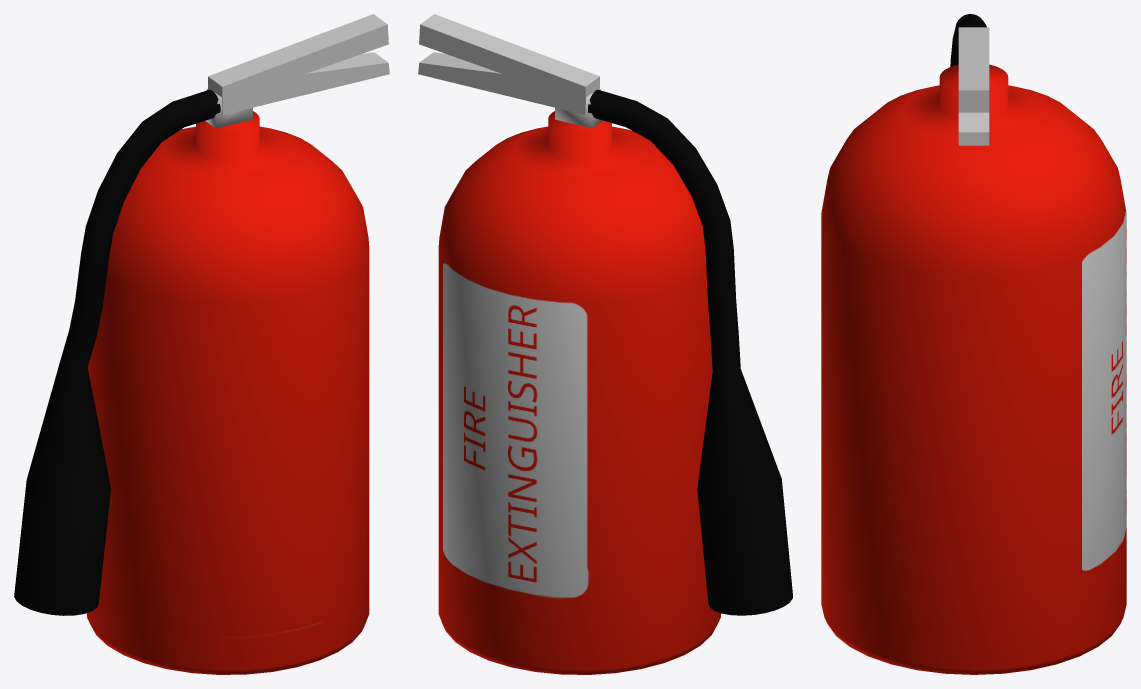
The model's file is sondurucu.glb.
3 views of the same model, side by side, from view 1: azimuth 30°, elevation 25°; view 2: azimuth 150°, elevation 25°; view 3: azimuth 270°, elevation 25° (orthographic). The views are drawn at different scales.
Visible parts, largest first — view 1: Cylinder, Circle; view 2: Cylinder, Circle; view 3: Cylinder, Circle.
Part boxes in pixels (x1,y1,x2,y2): Cylinder: [86, 14, 389, 674]; Circle: [14, 89, 220, 615]; Cylinder: [418, 14, 721, 674]; Circle: [588, 89, 792, 615]; Cylinder: [821, 27, 1126, 674]; Circle: [950, 14, 986, 66].
Size of the model in its own units: 1.03 by 1.52 by 0.6967.
Materials: 2 (1 with a texture image).
